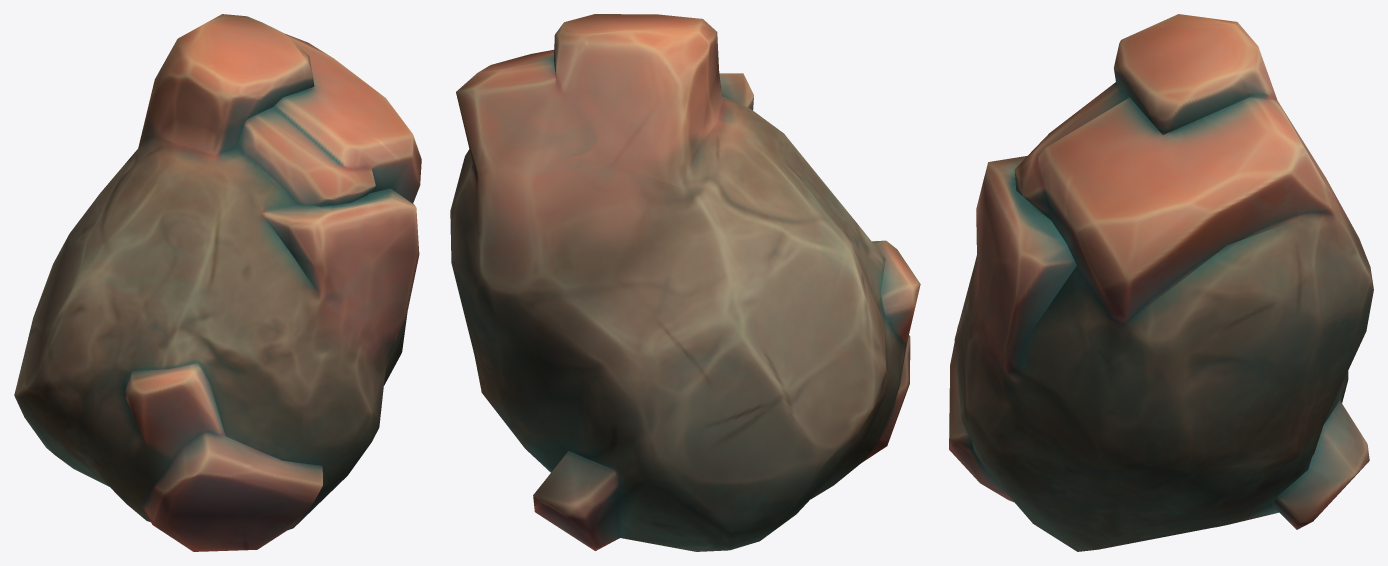
The model's file is SM_Gem_Copper_002.fbx.
3 renders of one model, left to right at view 1: azimuth 30°, elevation 25°; view 2: azimuth 150°, elevation 25°; view 3: azimuth 270°, elevation 25°, orthographic. The views are drawn at different scales.
Visible parts, largest first — view 1: SM_Gem_Copper_002; view 2: SM_Gem_Copper_002; view 3: SM_Gem_Copper_002.
Part boxes in pixels (x1,y1,x2,y2): SM_Gem_Copper_002: [14, 14, 421, 551]; SM_Gem_Copper_002: [450, 14, 920, 551]; SM_Gem_Copper_002: [949, 14, 1373, 551].
Bounding box in the file's own units: 57.51 × 69.32 × 50.54.
